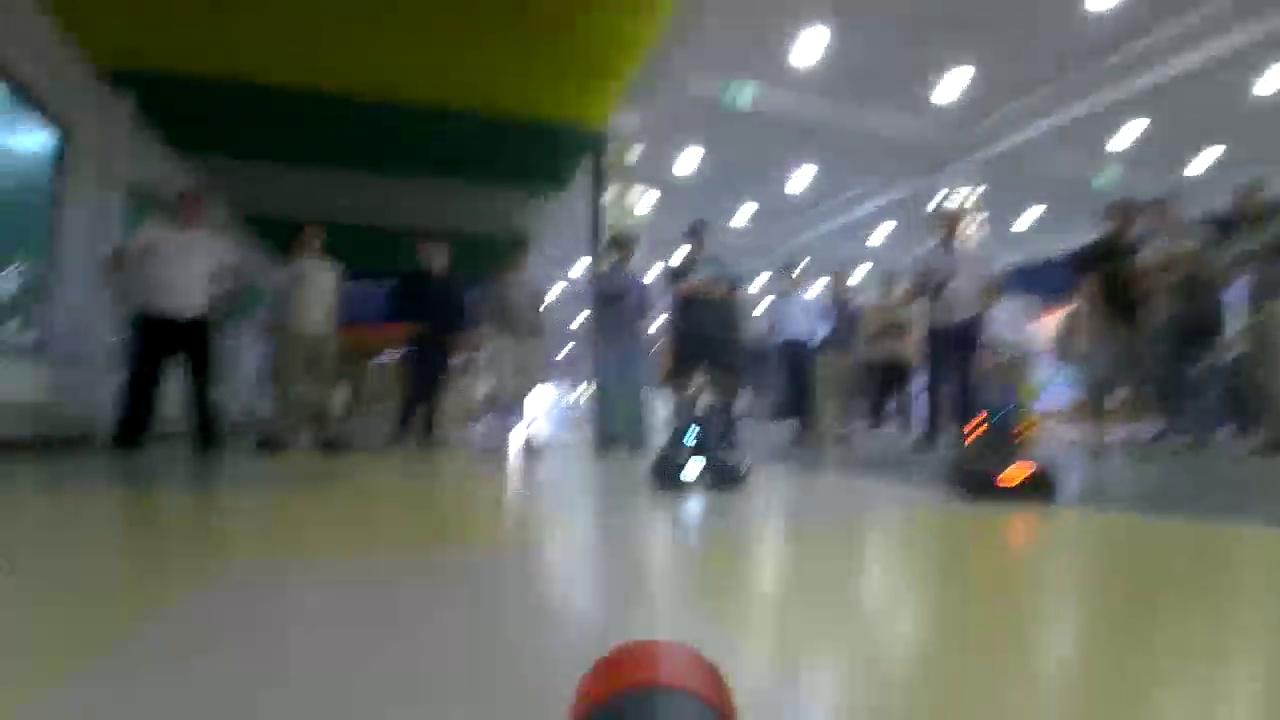robot: (952, 404, 1060, 502), (650, 418, 753, 491)
